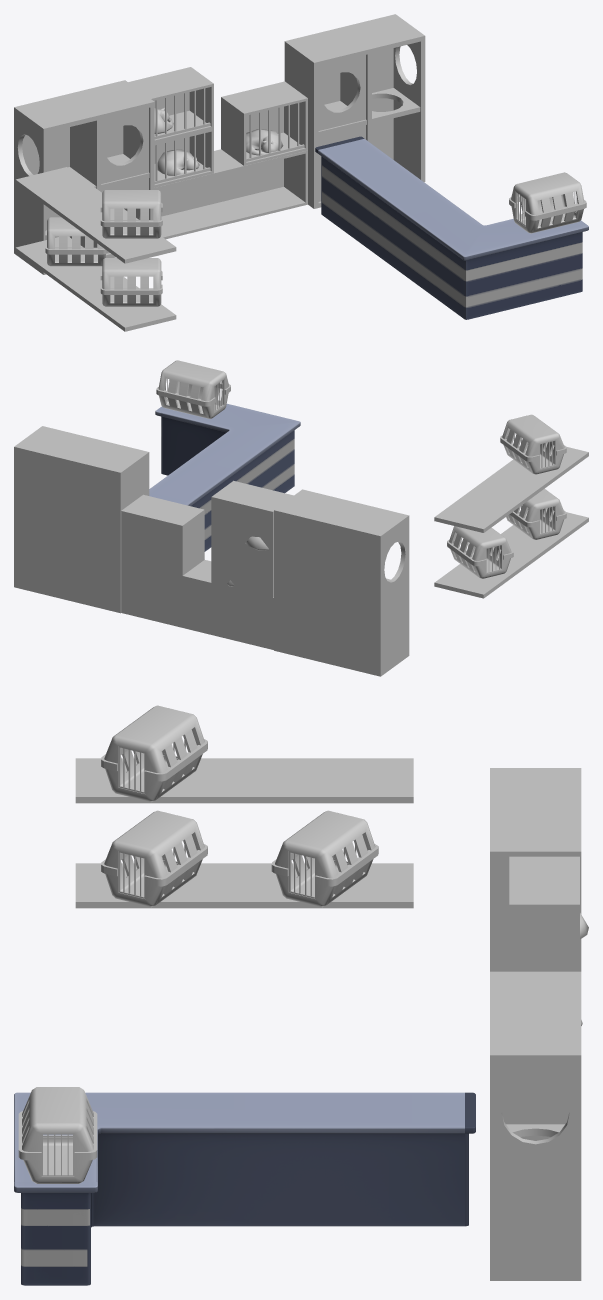
Rendered from Pet_Shop_F.fbx.
The picture shows the model from 3 angles, top to bottom: view 1: azimuth 30°, elevation 25°; view 2: azimuth 150°, elevation 25°; view 3: azimuth 270°, elevation 25°; orthographic projection. The views are drawn at different scales.
Parts seen in each view (by area): view 1: Box, PetShop_House1, PetShop_House, PetShop_Shelf_01, Carrier_01, PetShop_Shelf_02, Carrier_03, PetShop_Shelf_03, PetShop_Carrier3, PetShop_Carrier, PetShop_Carrier4, Carrier_02 (+1 smaller); view 2: PetShop_House, PetShop_House1, Box, PetShop_Shelf_01, Carrier_01, PetShop_Shelf_02, Carrier_03, PetShop_Shelf_03, PetShop_Carrier3, Carrier_02, PetShop_Carrier, PetShop_Carrier1 (+1 smaller); view 3: Box, PetShop_House1, PetShop_Shelf_02, PetShop_House, PetShop_Shelf_03, Carrier_03, PetShop_Carrier1, PetShop_Carrier, PetShop_Carrier4, PetShop_Carrier3.
Part boxes in pixels (left/top/right/bottom): Box: left=315, top=136, right=588, bottom=319; PetShop_House1: left=284, top=14, right=425, bottom=208; PetShop_House: left=14, top=80, right=154, bottom=274; PetShop_Shelf_01: left=154, top=149, right=307, bottom=239; Carrier_01: left=221, top=81, right=307, bottom=165; PetShop_Shelf_02: left=15, top=167, right=176, bottom=263; Carrier_03: left=128, top=67, right=213, bottom=142; PetShop_Shelf_03: left=15, top=236, right=176, bottom=331; PetShop_Carrier3: left=509, top=172, right=586, bottom=233; PetShop_Carrier: left=100, top=190, right=162, bottom=238; PetShop_Carrier4: left=100, top=258, right=162, bottom=306; Carrier_02: left=154, top=128, right=213, bottom=187; PetShop_House: left=274, top=489, right=409, bottom=676; PetShop_House1: left=14, top=426, right=149, bottom=613; Box: left=149, top=403, right=300, bottom=551; PetShop_Shelf_01: left=121, top=560, right=273, bottom=649; Carrier_01: left=121, top=494, right=204, bottom=575; PetShop_Shelf_02: left=434, top=442, right=588, bottom=532; Carrier_03: left=211, top=480, right=293, bottom=554; PetShop_Shelf_03: left=434, top=508, right=588, bottom=598; PetShop_Carrier3: left=156, top=360, right=230, bottom=418; Carrier_02: left=211, top=540, right=273, bottom=597; PetShop_Carrier: left=500, top=414, right=566, bottom=474; PetShop_Carrier1: left=447, top=526, right=513, bottom=578; Box: left=14, top=1092, right=475, bottom=1285; PetShop_House1: left=490, top=971, right=581, bottom=1280; PetShop_Shelf_02: left=75, top=758, right=413, bottom=803; PetShop_House: left=490, top=768, right=581, bottom=971; PetShop_Shelf_03: left=75, top=863, right=413, bottom=908; Carrier_03: left=509, top=856, right=588, bottom=971; PetShop_Carrier1: left=271, top=810, right=378, bottom=907; PetShop_Carrier: left=101, top=705, right=207, bottom=801; PetShop_Carrier4: left=101, top=810, right=207, bottom=907; PetShop_Carrier3: left=18, top=1087, right=97, bottom=1183.
Bounding box in the file's own units: 113 × 39.95 × 82.12.
